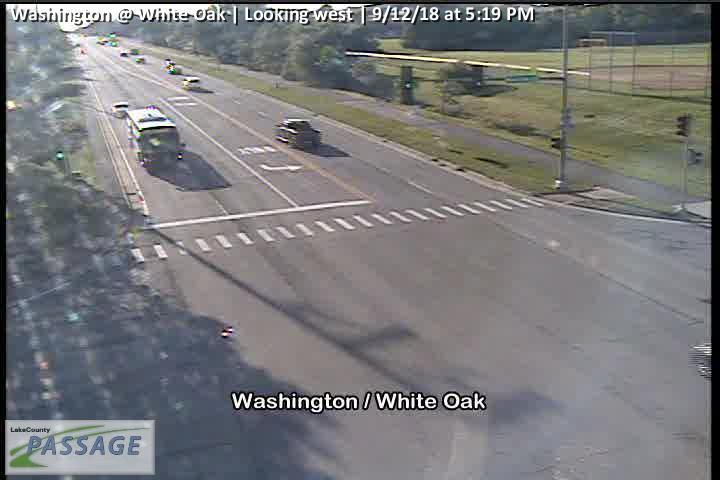SUV: (274, 117, 322, 150), (181, 75, 203, 90)
Sedan: (125, 104, 186, 172), (108, 101, 132, 117)
